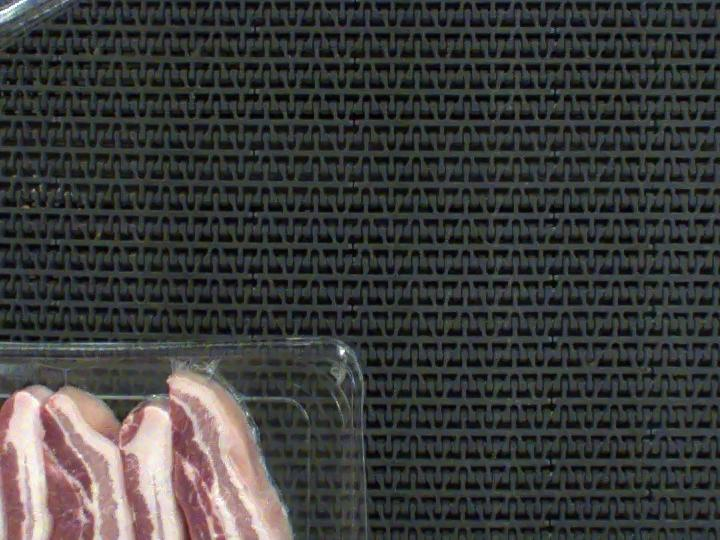packaging-error: (149, 322, 252, 410)
